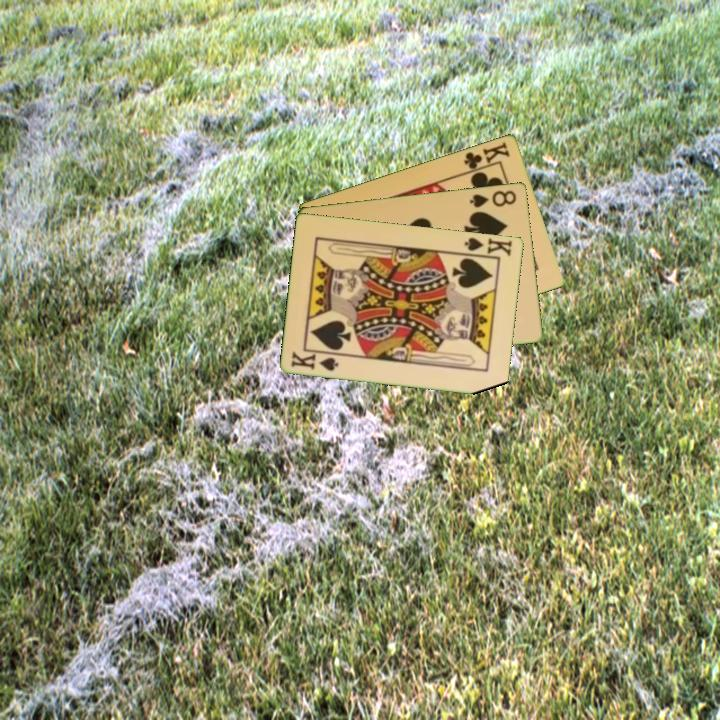8s: (466, 186, 519, 210)
Kc: (460, 138, 513, 175)
Ks: (288, 347, 342, 374), (461, 234, 515, 259)
